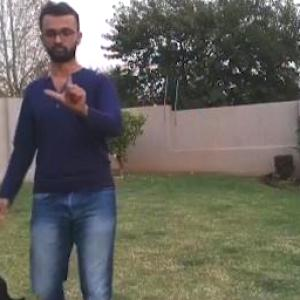land_hand: (41, 62, 95, 114)
